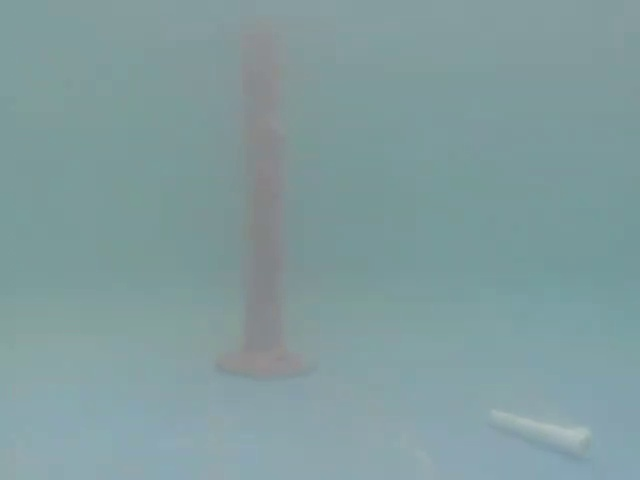flare: (212, 23, 316, 382)
